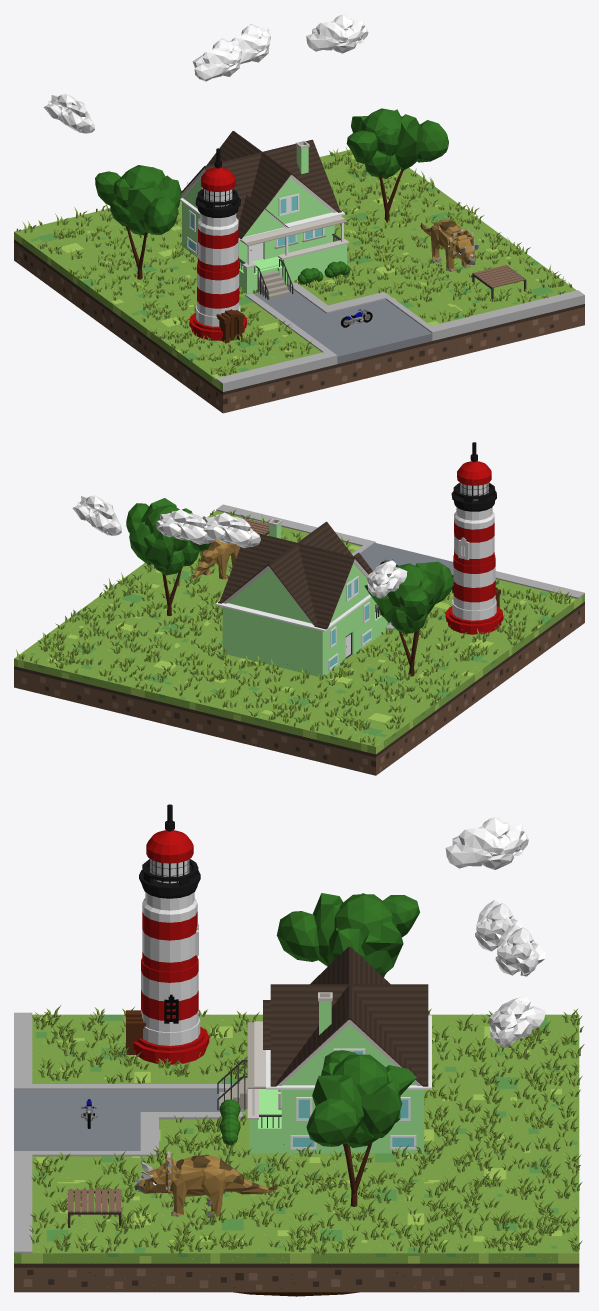
The picture shows the model from 3 angles, top to bottom: view 1: azimuth 30°, elevation 25°; view 2: azimuth 150°, elevation 25°; view 3: azimuth 270°, elevation 25°; orthographic projection. The views are drawn at different scales.
Parts seen in each view (by area): view 1: Cube.006, Circle.012_Grass_0.192, Cube.274, OBJRANDOM_LIGHTHOUSE, Cube.007, tree, tree.001, ANIMAL_Triceratops, Cube.009; view 2: Cube.006, Cube.274, Circle.012_Grass_0.192, OBJRANDOM_LIGHTHOUSE, Cube.007, tree.001, tree, ANIMAL_Triceratops; view 3: Cube.006, Circle.012_Grass_0.192, Cube.274, OBJRANDOM_LIGHTHOUSE, tree, Cube.007, tree.001, ANIMAL_Triceratops, Cube.009.
Boxes of the visible parts, <box> form: Cube.006: <box>14,149,584,413</box>; Circle.012_Grass_0.192: <box>16,147,572,376</box>; Cube.274: <box>180,131,349,299</box>; OBJRANDOM_LIGHTHOUSE: <box>189,148,246,343</box>; Cube.007: <box>43,14,368,133</box>; tree: <box>346,108,448,222</box>; tree.001: <box>95,165,181,279</box>; ANIMAL_Triceratops: <box>420,219,478,271</box>; Cube.009: <box>472,265,526,298</box>; Cube.006: <box>14,504,584,775</box>; Cube.274: <box>215,518,387,677</box>; Circle.012_Grass_0.192: <box>16,509,572,746</box>; OBJRANDOM_LIGHTHOUSE: <box>445,442,503,634</box>; Cube.007: <box>72,495,407,598</box>; tree.001: <box>364,561,453,676</box>; tree: <box>126,498,210,615</box>; ANIMAL_Triceratops: <box>191,539,239,579</box>; Cube.006: <box>14,1012,579,1292</box>; Circle.012_Grass_0.192: <box>29,1005,584,1254</box>; Cube.274: <box>217,946,431,1153</box>; OBJRANDOM_LIGHTHOUSE: <box>126,804,209,1064</box>; tree: <box>306,1050,416,1206</box>; Cube.007: <box>445,817,545,1047</box>; tree.001: <box>276,893,419,977</box>; ANIMAL_Triceratops: <box>134,1151,278,1217</box>; Cube.009: <box>68,1188,121,1227</box>.
Size of the model in its own units: 4071 by 2354 by 4040.
41 materials, 3 textured.
